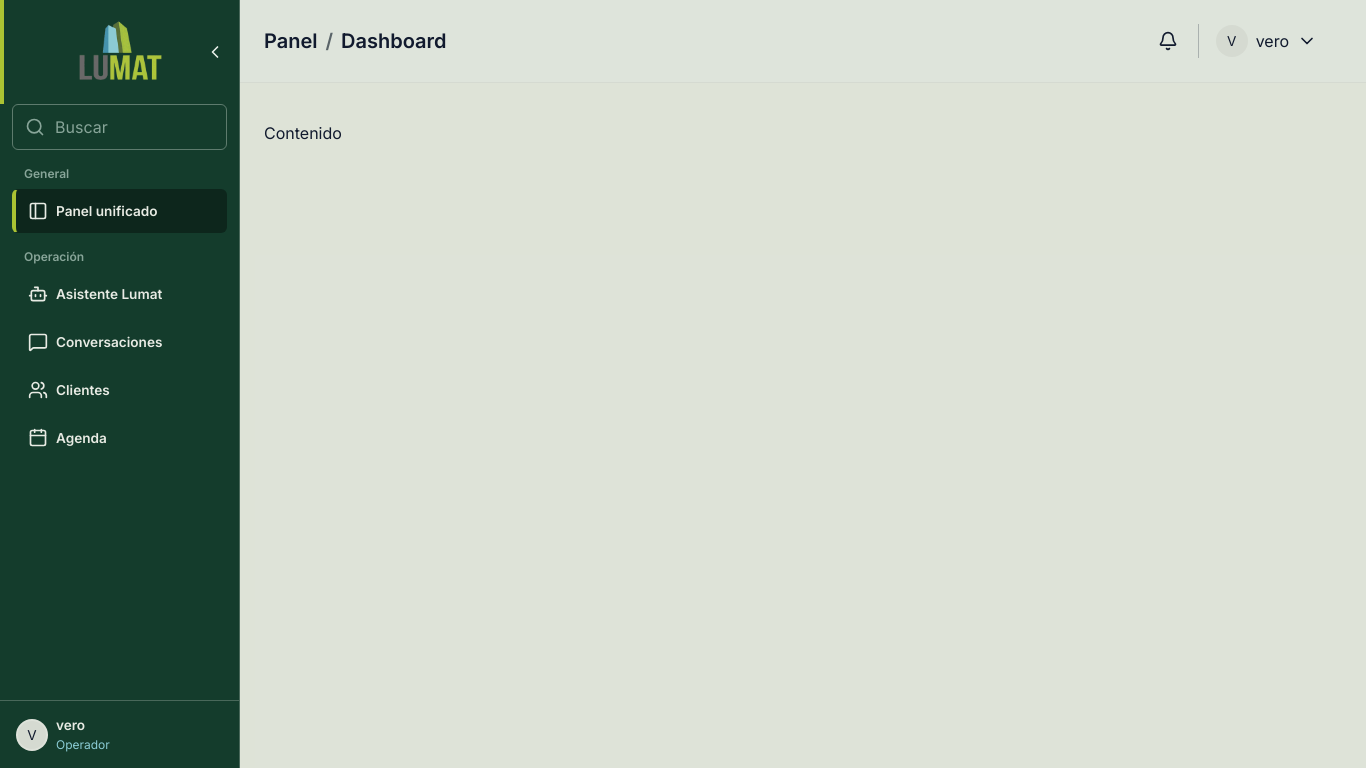
Test: PanelShell rail contract (2C-1) › filters role-authorized navigation in named groups from the sidebar search
The width and height of the screenshot is (1366, 768).
Expected: the element "General" shows "Panel unificado", [12, 189, 227, 233]
Expected: the element "Operación" shows "Conversaciones", [12, 320, 227, 364]
Type "cliente" into the search field named "Buscar en el menú" at (134,127), box [53, 105, 214, 149]
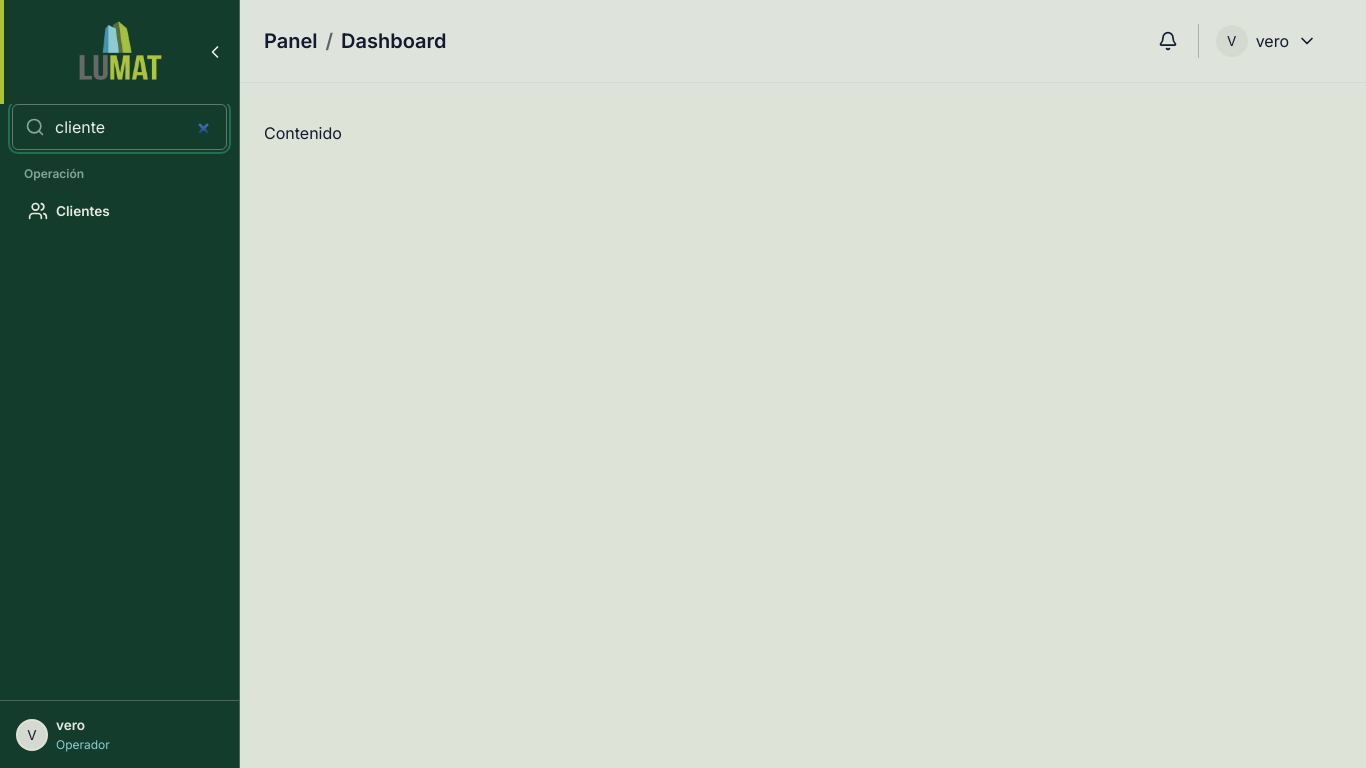
Expected: the button "Clientes" is shown, [12, 189, 227, 233]
Result: the button "Conversaciones" is gone
